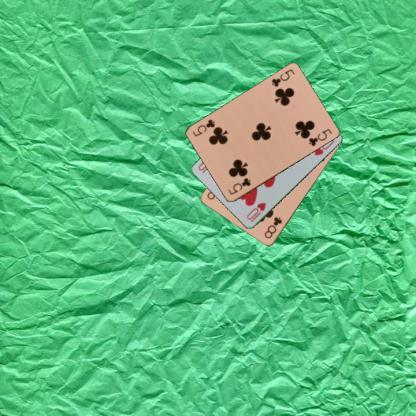10h: (244, 200, 268, 223)
5c: (268, 66, 296, 88), (225, 175, 252, 197)
8c: (262, 214, 284, 240)
